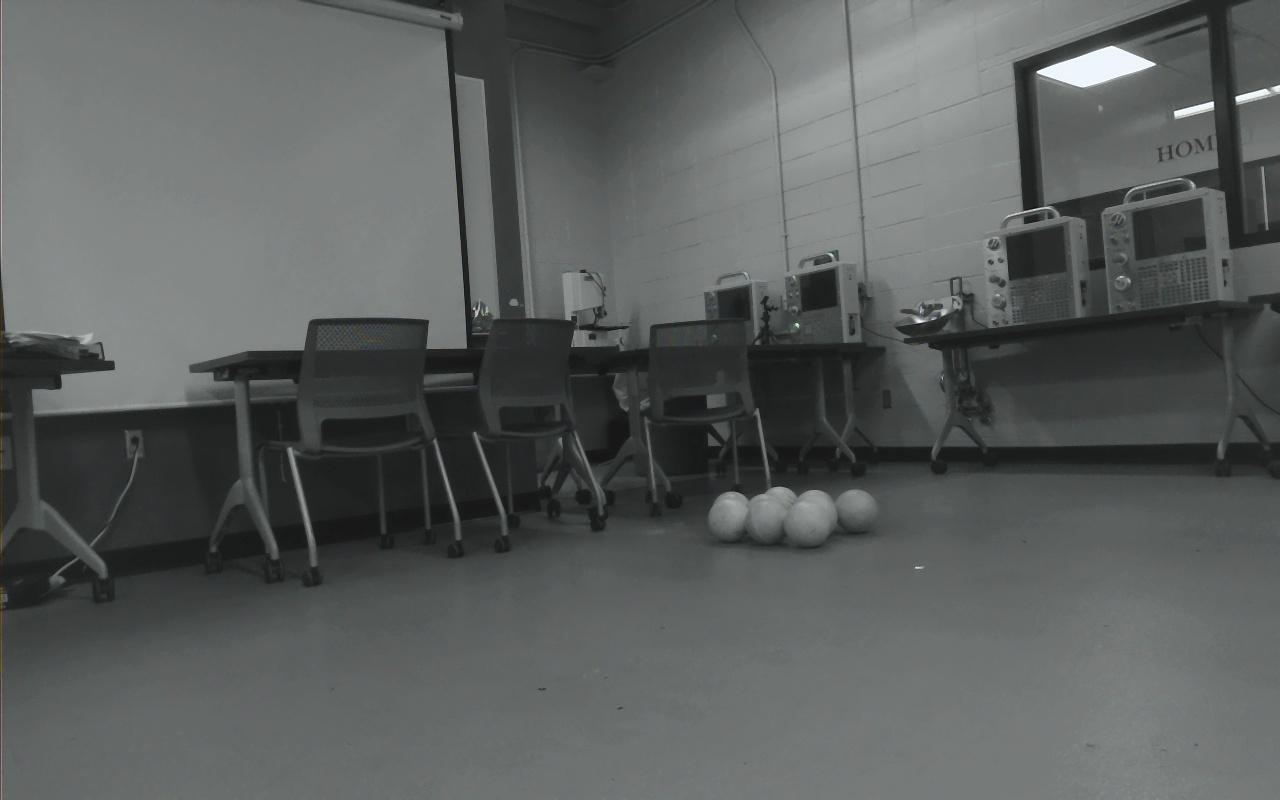Fuel: (785, 499, 831, 548), (744, 496, 788, 545), (833, 488, 878, 534), (708, 493, 750, 542), (796, 490, 837, 536), (795, 494, 837, 538), (707, 499, 751, 538), (760, 486, 799, 524), (748, 498, 786, 537)
